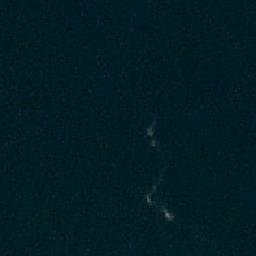debris: (145, 184, 175, 222), (145, 121, 162, 151)
